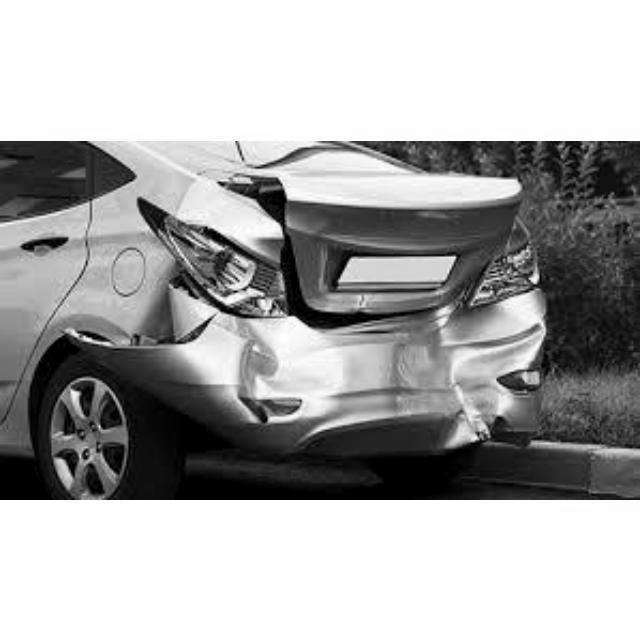boot-dent: (264, 140, 467, 302)
quaterpanel-dent: (86, 202, 272, 364)
rear-bumper-dent: (238, 327, 524, 444)
